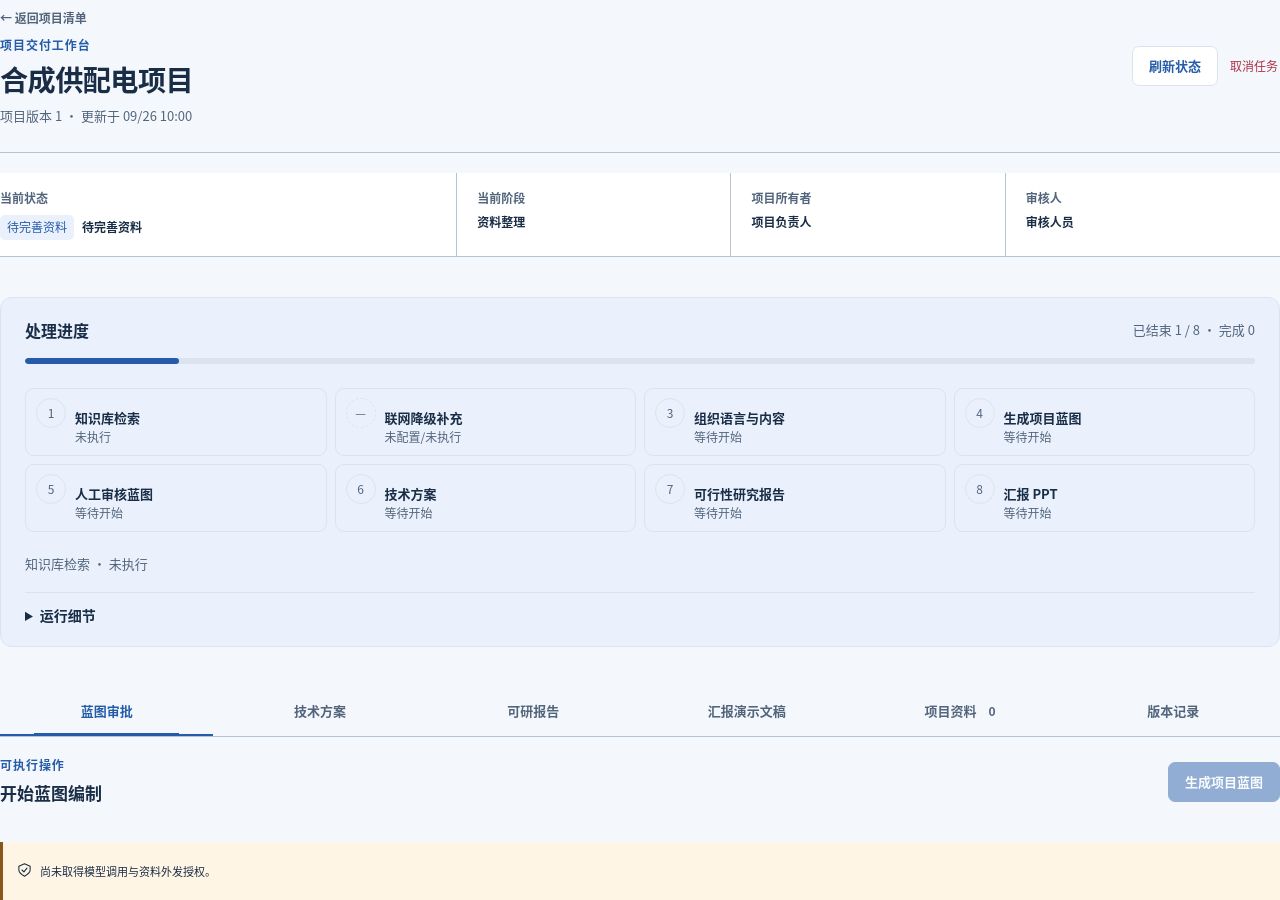
Test: product business workbench › hides task details after revoked access on refresh
Expected: the heading "合成供配电项目" is shown, x1=0 y1=60 x2=193 y2=98
Click the button "刷新状态": [1175, 66] box x1=1132 y1=46 x2=1218 y2=86
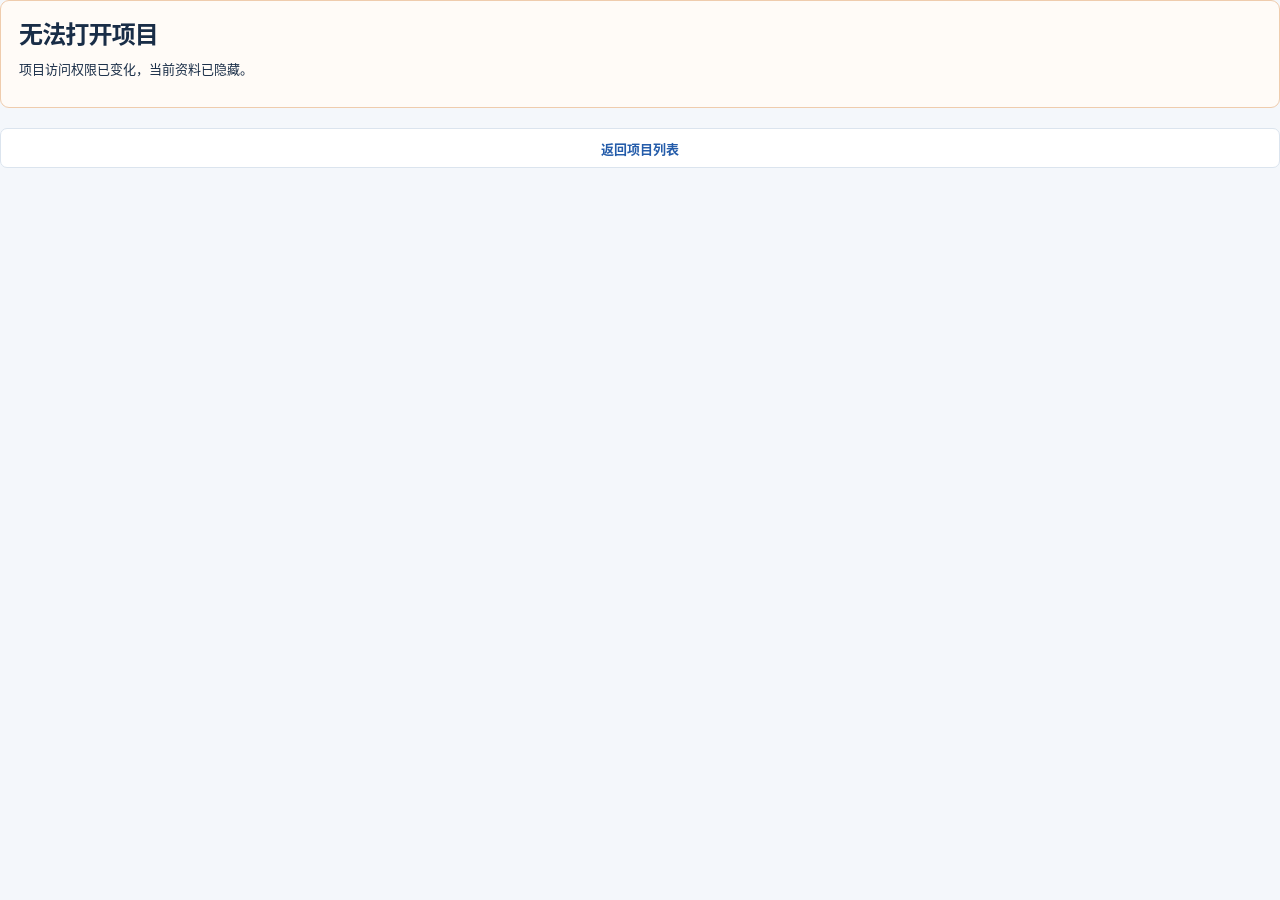
Now the heading "无法打开项目" is shown, box x1=19 y1=15 x2=158 y2=50
